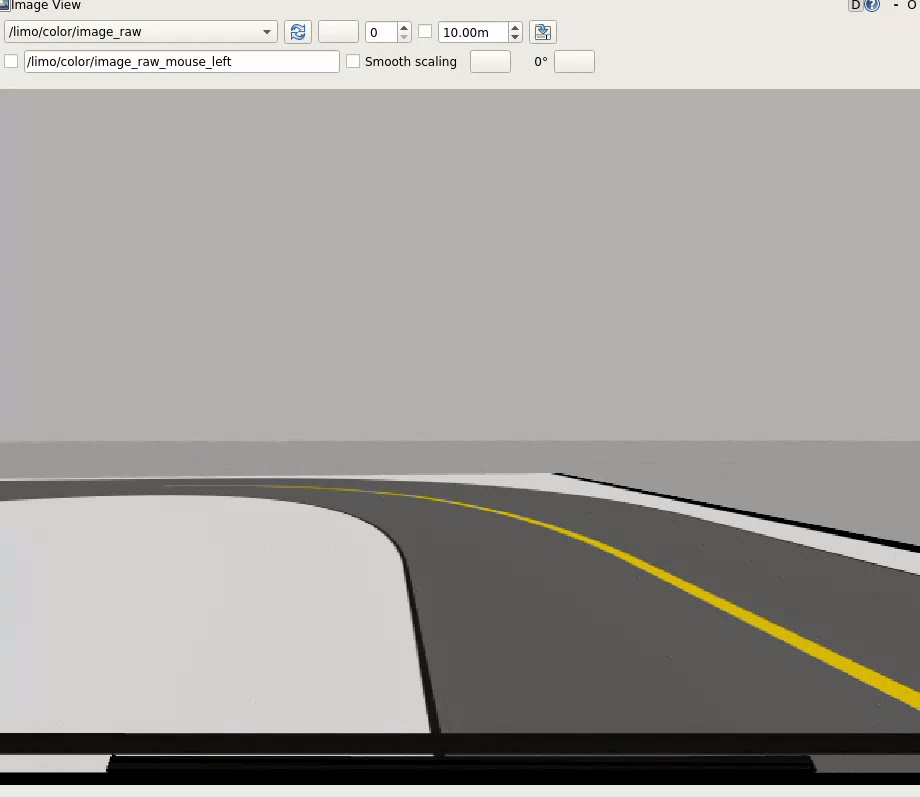Solid: (277, 485, 919, 710)
Street: (0, 478, 919, 732)
